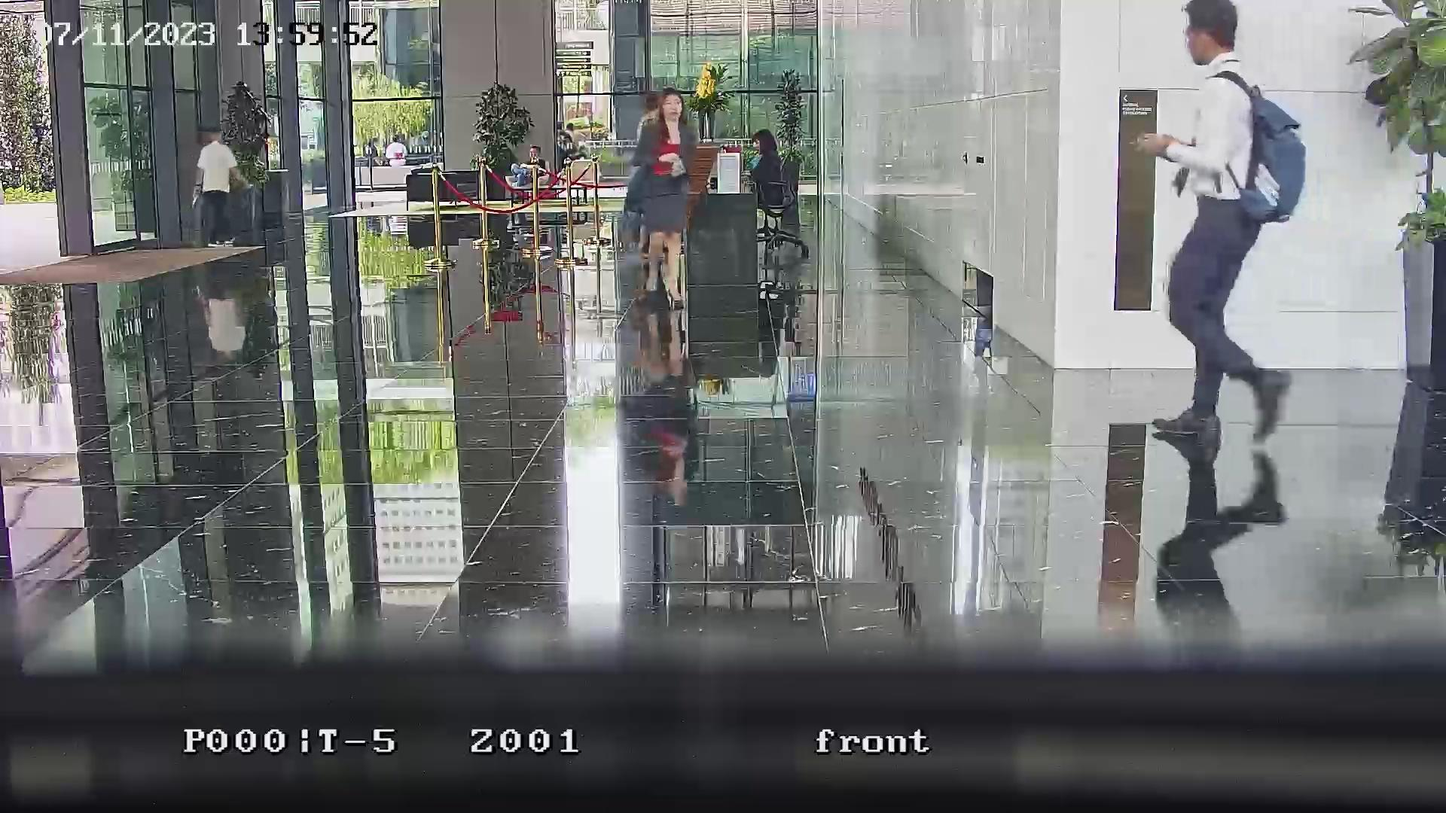person: (1136, 1, 1294, 444), (623, 88, 700, 305), (193, 129, 244, 247), (744, 129, 795, 233), (511, 145, 550, 204), (386, 134, 410, 166), (365, 136, 383, 166)
